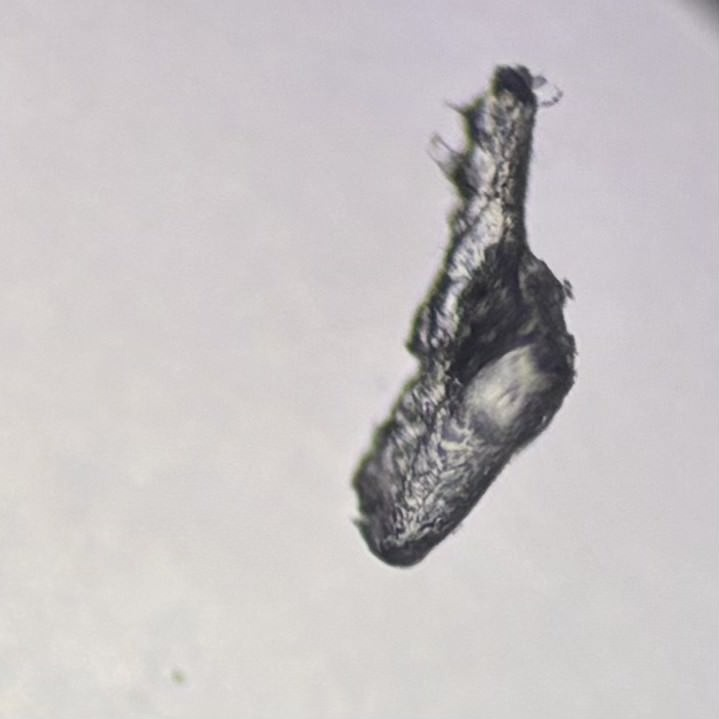microplastic: (350, 54, 586, 570)
